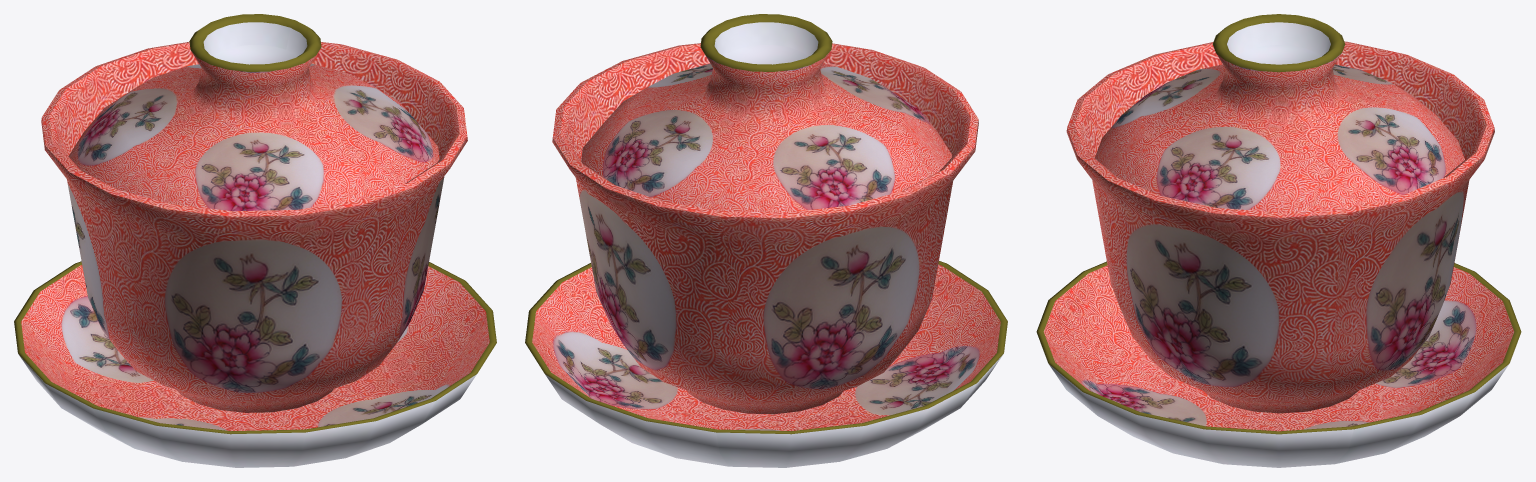
The model's file is wan08_03.FBX.
The picture shows the model from 3 angles, left to right: view 1: azimuth 30°, elevation 25°; view 2: azimuth 150°, elevation 25°; view 3: azimuth 270°, elevation 25°; orthographic projection.
Visible parts, largest first — view 1: pCylinder017, pCylinder018, pCylinder019; view 2: pCylinder017, pCylinder018, pCylinder019; view 3: pCylinder017, pCylinder018, pCylinder019.
Boxes of the visible parts, x1=… form: pCylinder017: x1=41, y1=41, x2=467, y2=412; pCylinder018: x1=68, y1=14, x2=439, y2=211; pCylinder019: x1=14, y1=261, x2=496, y2=467; pCylinder017: x1=552, y1=43, x2=978, y2=414; pCylinder018: x1=581, y1=14, x2=951, y2=212; pCylinder019: x1=525, y1=261, x2=1007, y2=467; pCylinder017: x1=1066, y1=41, x2=1494, y2=413; pCylinder018: x1=1095, y1=14, x2=1464, y2=212; pCylinder019: x1=1036, y1=261, x2=1521, y2=467.
Bounding box in the file's own units: 119 × 101 × 119.
